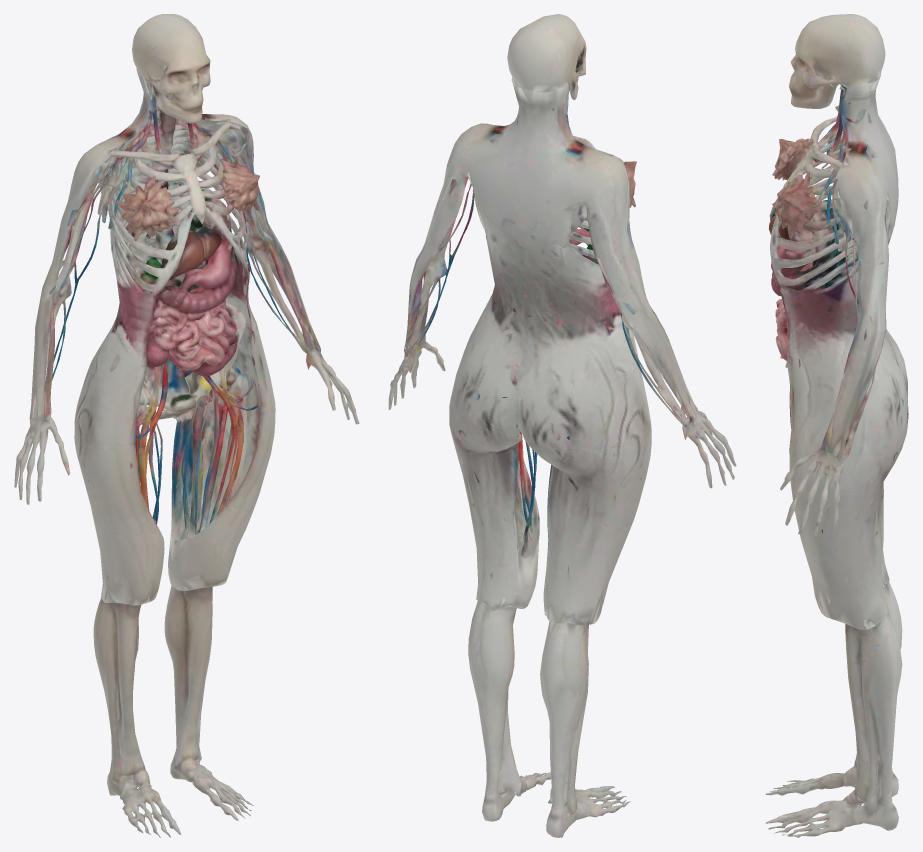
Rendered from bodyF.glb.
3 views of the same model, side by side, from view 1: azimuth 30°, elevation 25°; view 2: azimuth 150°, elevation 25°; view 3: azimuth 270°, elevation 25° (orthographic).
Parts seen in each view (by area): view 1: mesh_node; view 2: mesh_node; view 3: mesh_node.
Part boxes in pixels (left/top/right/bottom): mesh_node: left=14, top=14, right=359, bottom=837; mesh_node: left=388, top=14, right=736, bottom=837; mesh_node: left=765, top=14, right=908, bottom=837.
Size of the model in its own units: 0.8356 by 1.9 by 0.3095.
Materials: 1 (1 with a texture image).
